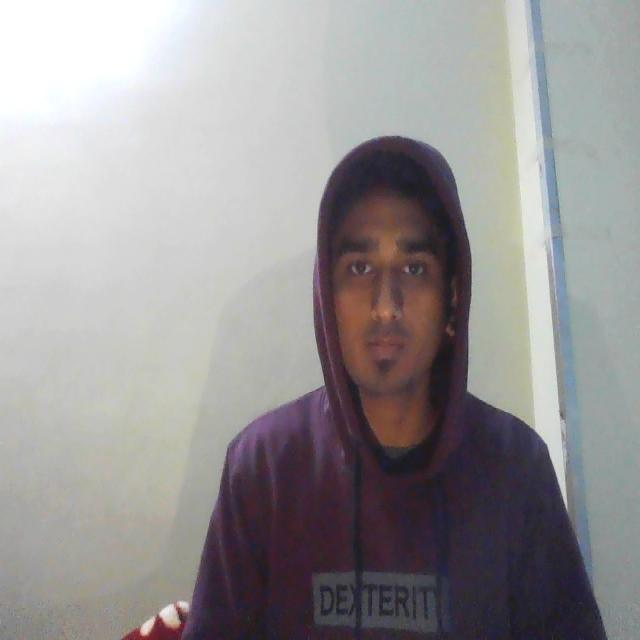real: (313, 134, 467, 426)
